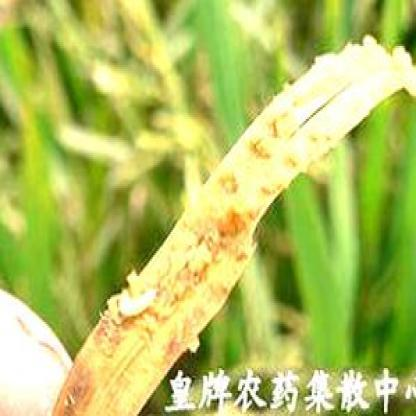whorl-maggot: (115, 277, 164, 320)
